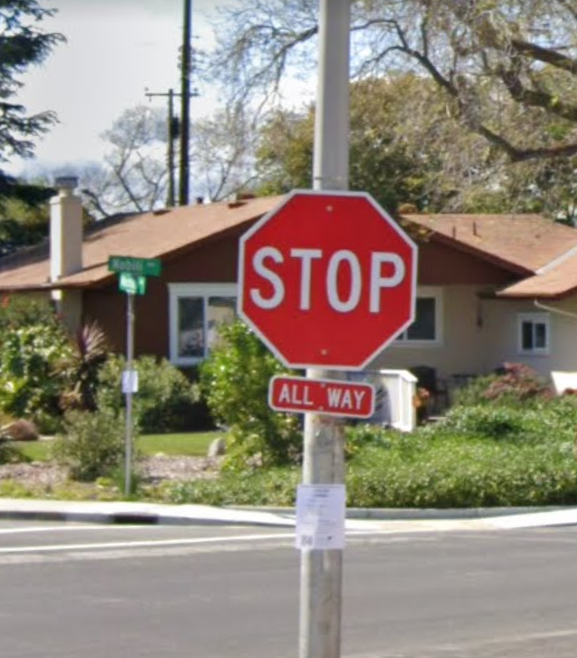stop_sign: (239, 195, 415, 368)
